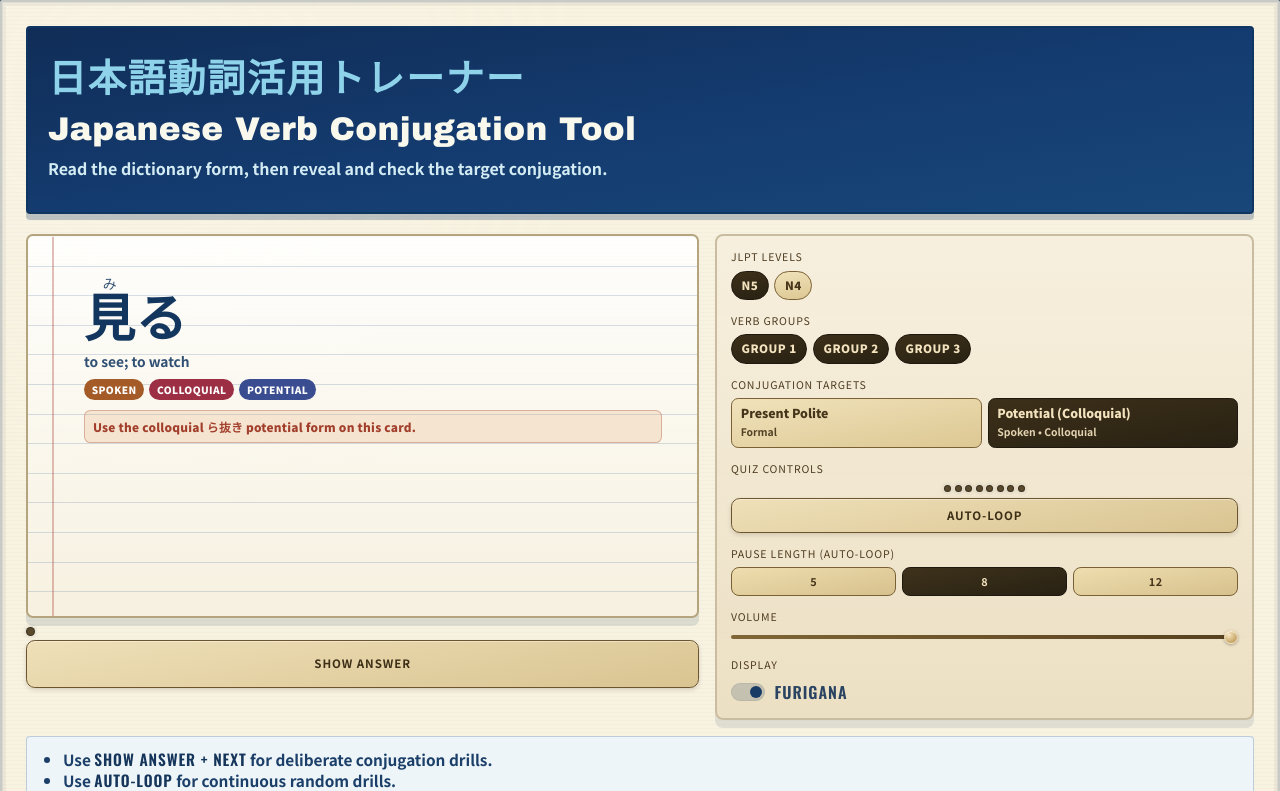
Test case: JapaneseVerbConjugationToolPage › navigates back to previous card with history
Step 1. Click the button "Show Answer" → [363, 664], box [26, 640, 699, 688]
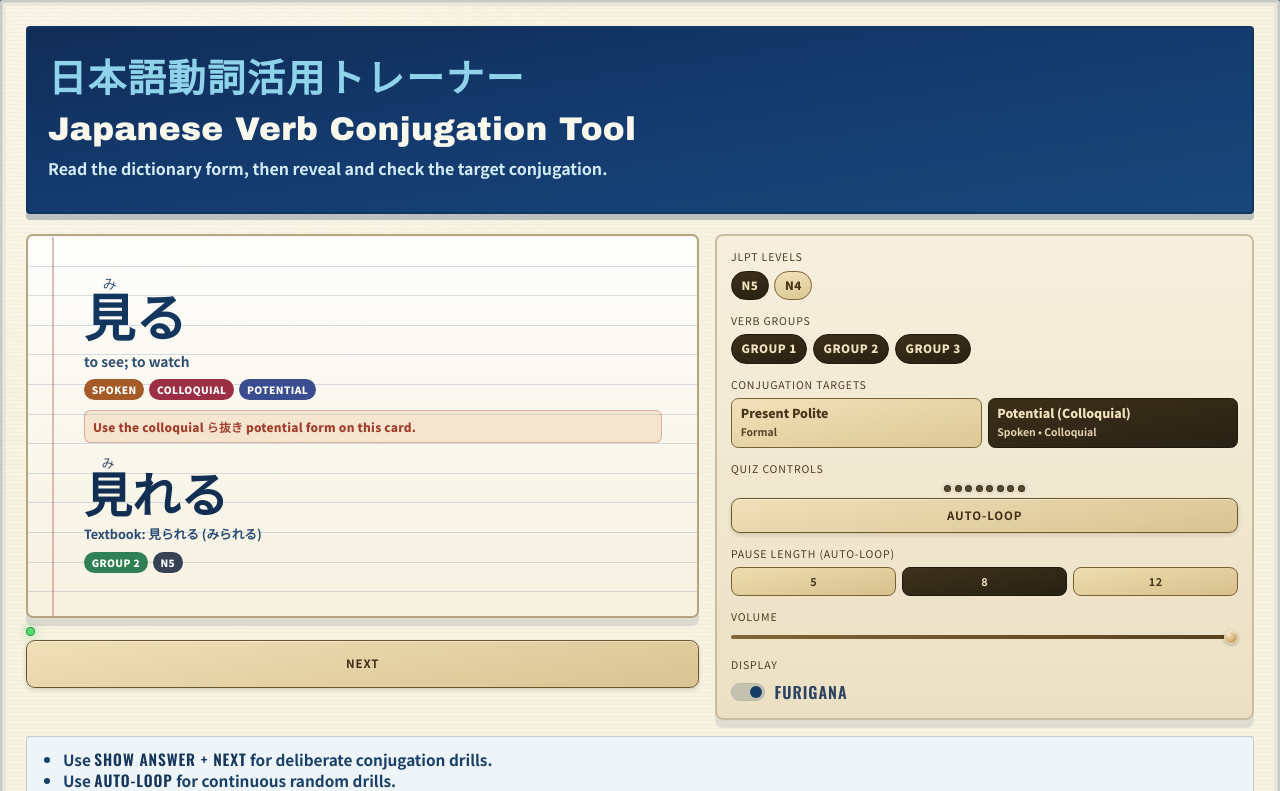
Expected: the text "れる" is shown, [132, 456, 228, 526]
Step 2. Click the button with aria-label "advance to the next item" → [363, 664], box [26, 640, 699, 688]
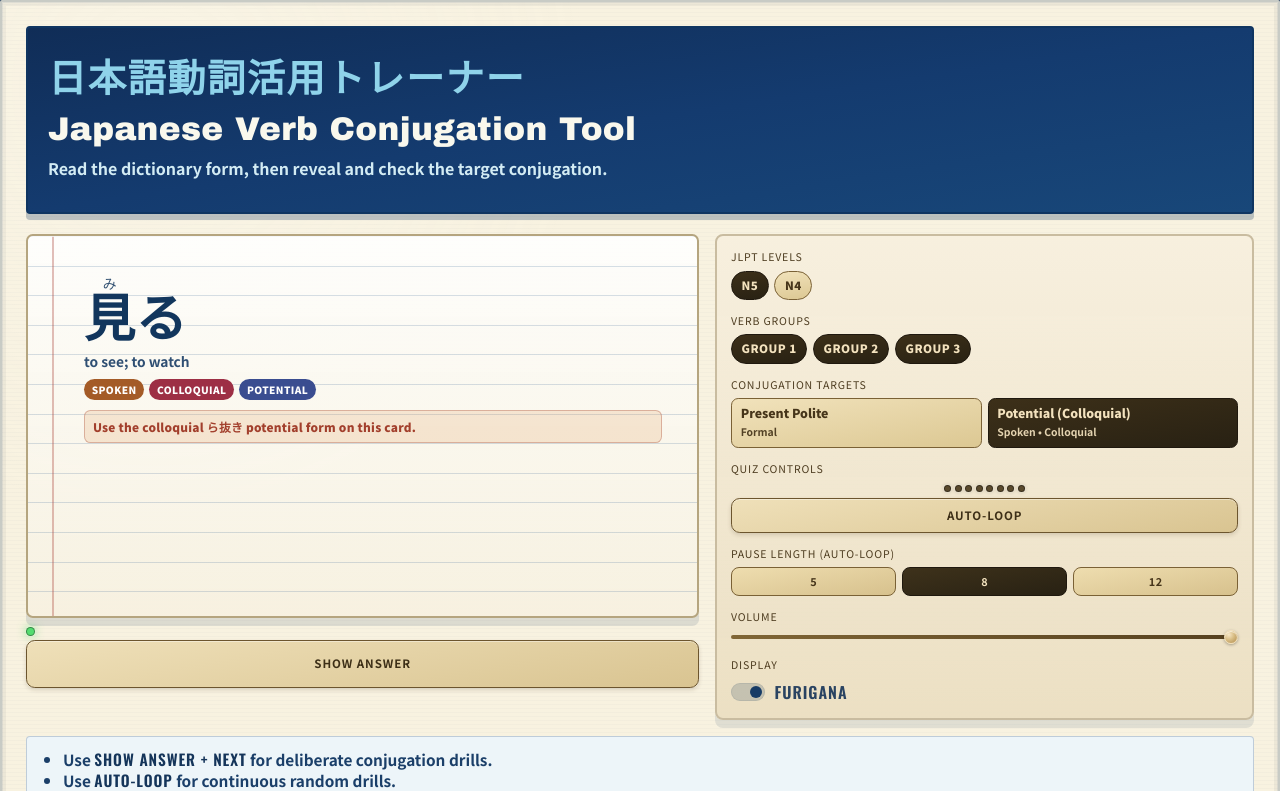
Expected: the text "れる" is gone
Step 3. Press ArrowLeft
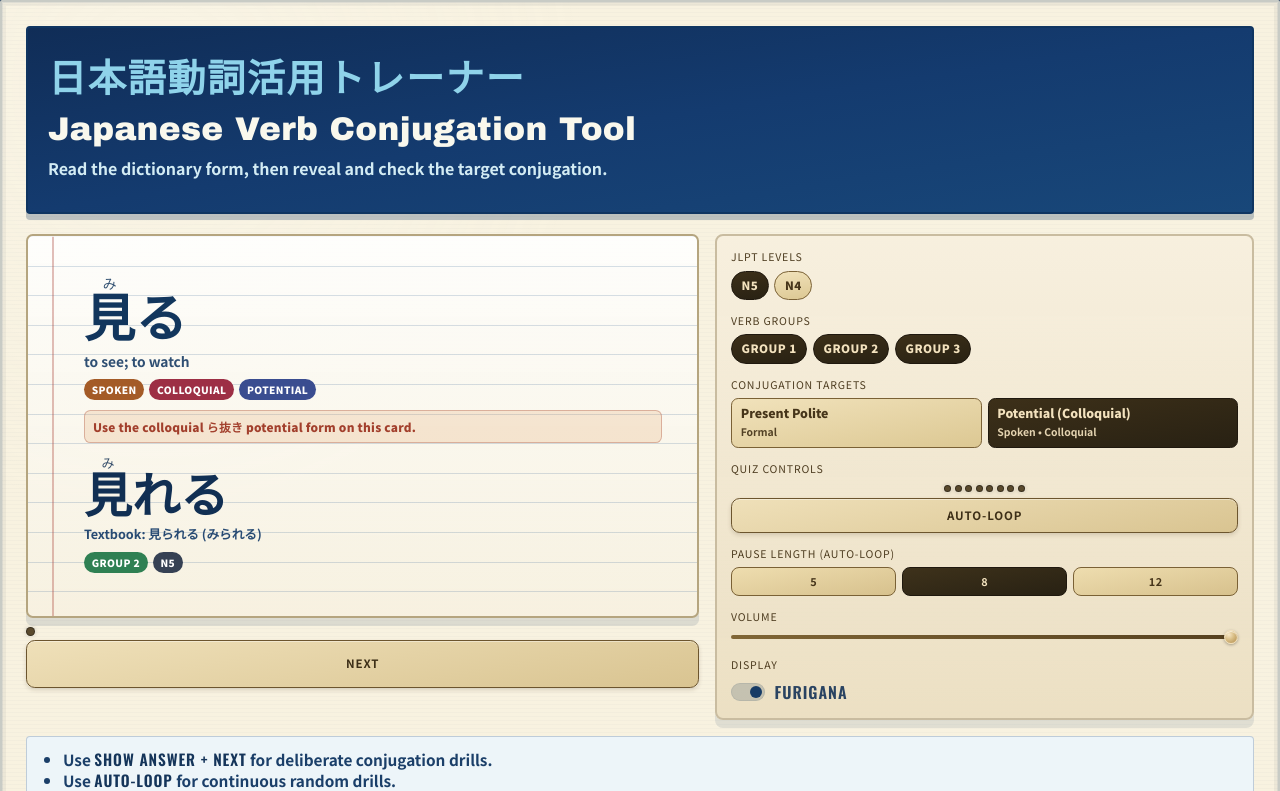
Expected: the text "れる" is shown, [132, 456, 228, 526]
